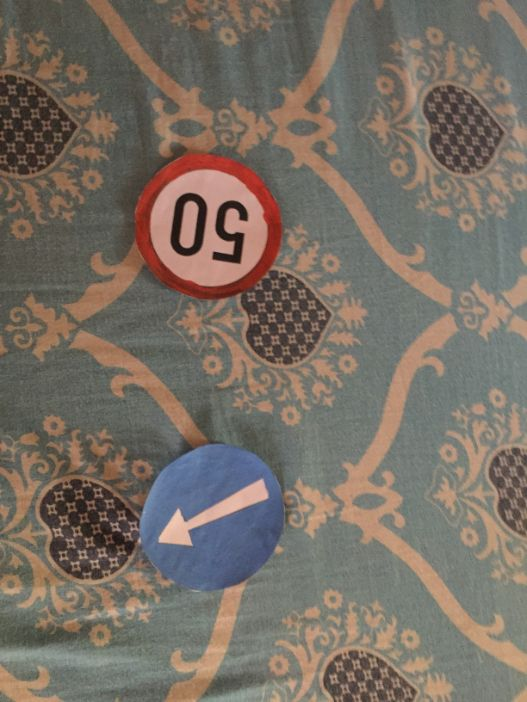keep-left: (140, 444, 281, 585)
speed-50: (136, 152, 281, 297)
